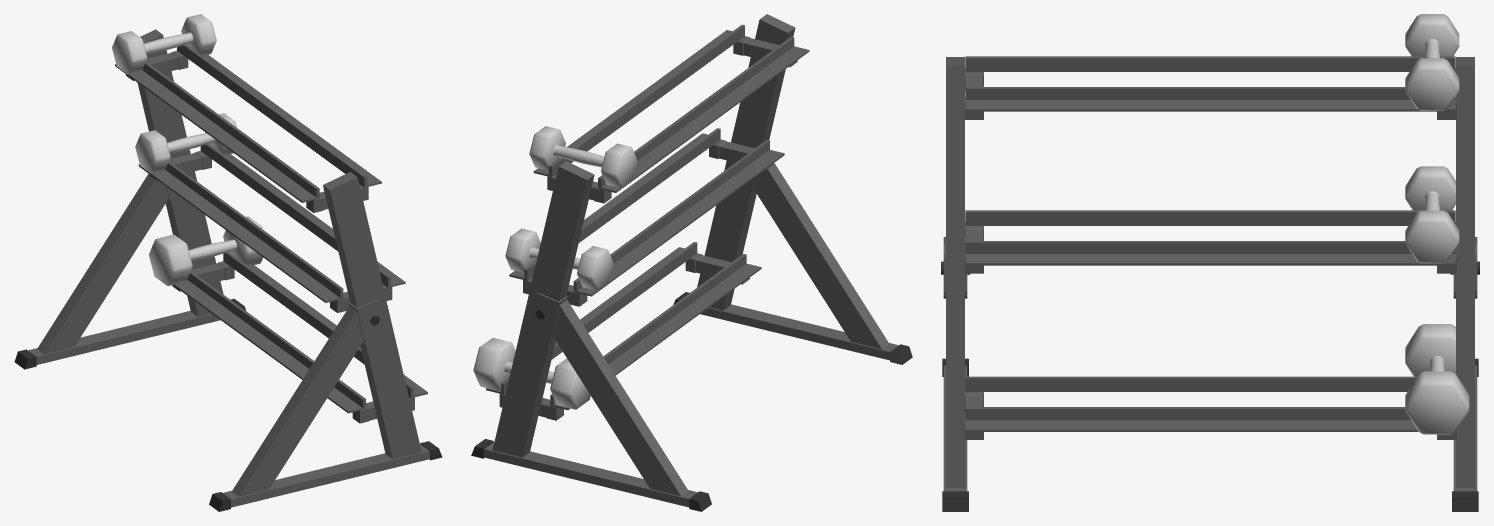
File: Dumbbell_Shelf_Dumbbells.fbx
3 renders of one model, left to right at view 1: azimuth 30°, elevation 25°; view 2: azimuth 150°, elevation 25°; view 3: azimuth 270°, elevation 25°, orthographic. The views are drawn at different scales.
Visible parts, largest first — view 1: Dumbbell_Shelf, Dummbell3, Dumbbell1, Dumbbell2; view 2: Dumbbell_Shelf, Dummbell3, Dumbbell1, Dumbbell2; view 3: Dumbbell_Shelf, Dummbell3, Dumbbell1, Dumbbell2.
Boxes of the visible parts, x1,y1,x2,y2 form: Dumbbell_Shelf: [14, 29, 442, 511]; Dummbell3: [149, 216, 262, 285]; Dumbbell1: [112, 14, 216, 74]; Dumbbell2: [135, 113, 236, 173]; Dumbbell_Shelf: [471, 14, 912, 511]; Dummbell3: [473, 337, 590, 409]; Dumbbell1: [529, 126, 637, 188]; Dumbbell2: [505, 228, 613, 290]; Dumbbell_Shelf: [941, 56, 1479, 511]; Dummbell3: [1405, 324, 1469, 434]; Dumbbell1: [1405, 14, 1459, 110]; Dumbbell2: [1405, 166, 1459, 263].
Size of the model in its own units: 0.0161 by 0.0216 by 0.0255.
